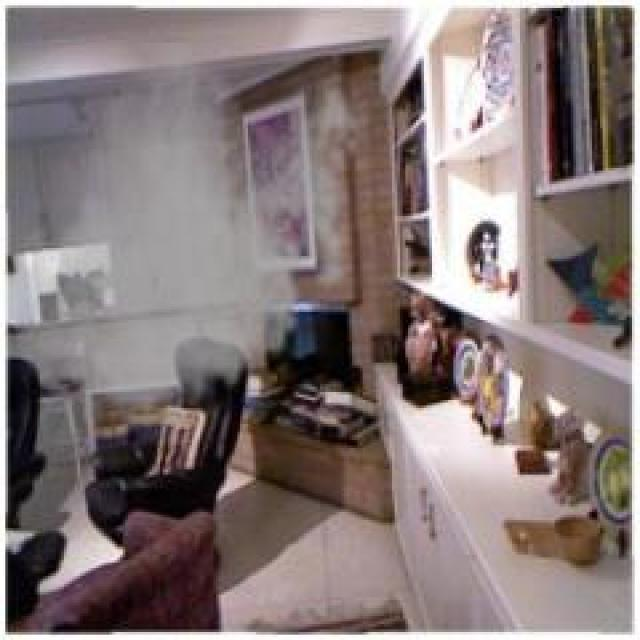Smoke: (24, 39, 372, 442)
